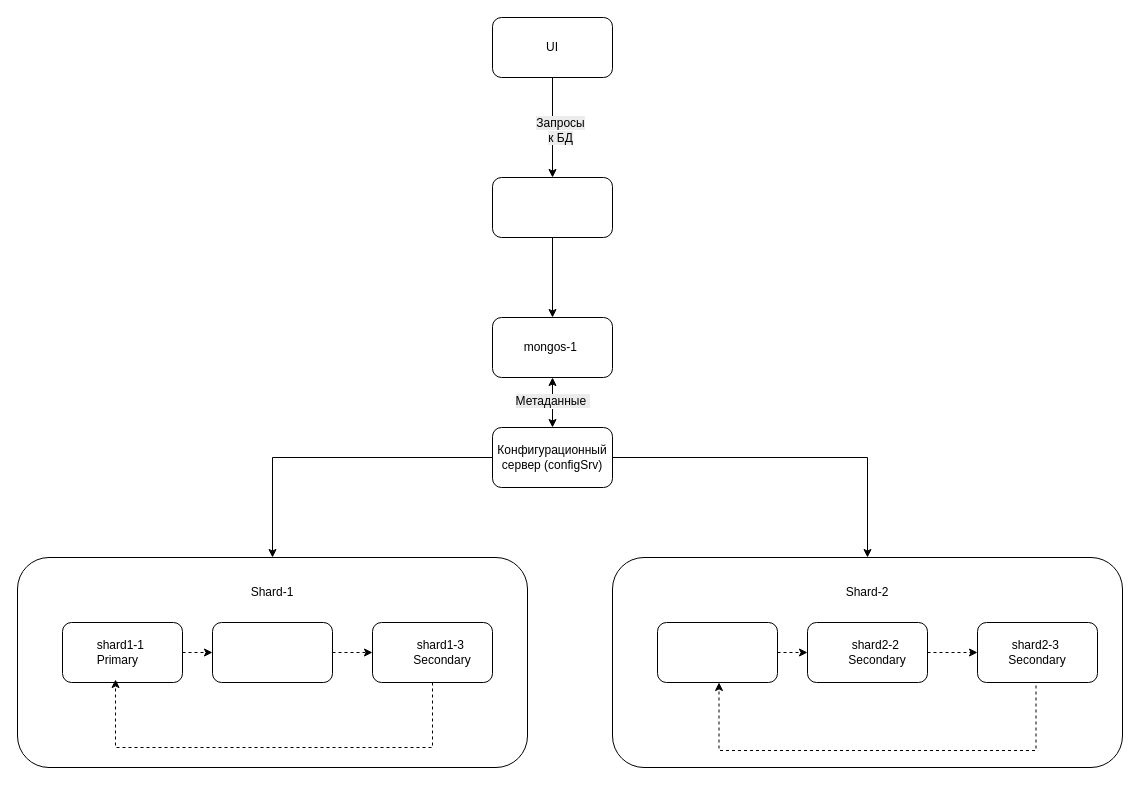
This 1140x785 diagram has some shape labels left out. Here are the shapes that lost their labels. From the top down, the centre of each, then its label:
(552,207): pymongo-api
(272,652): shard1-2 Secondary
(717,652): shard2-1 Primary
